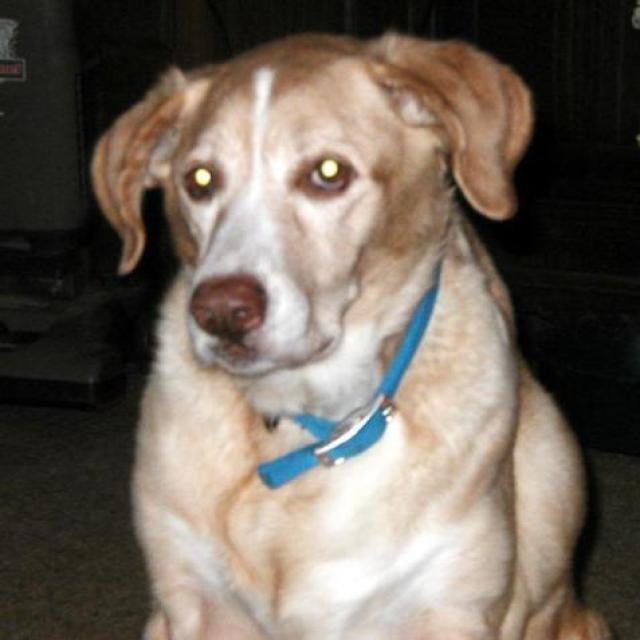Dogs: (87, 28, 616, 639)
